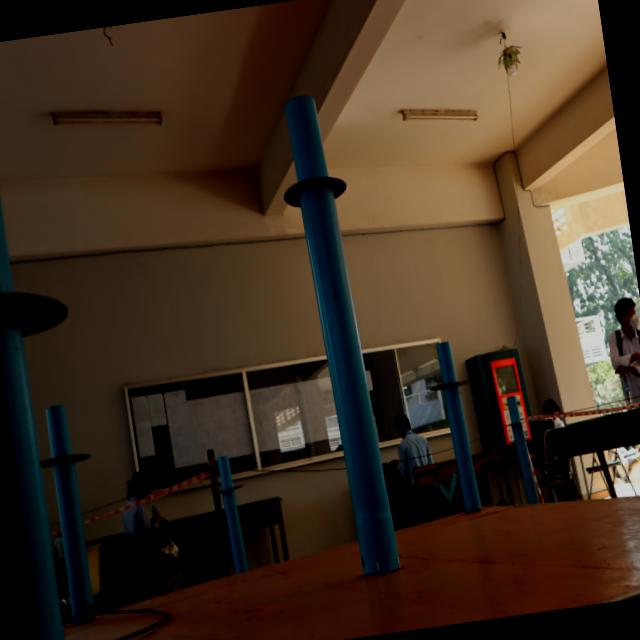pole: (258, 89, 367, 278), (27, 397, 96, 524), (421, 336, 482, 432), (498, 393, 538, 452), (209, 456, 246, 518)
